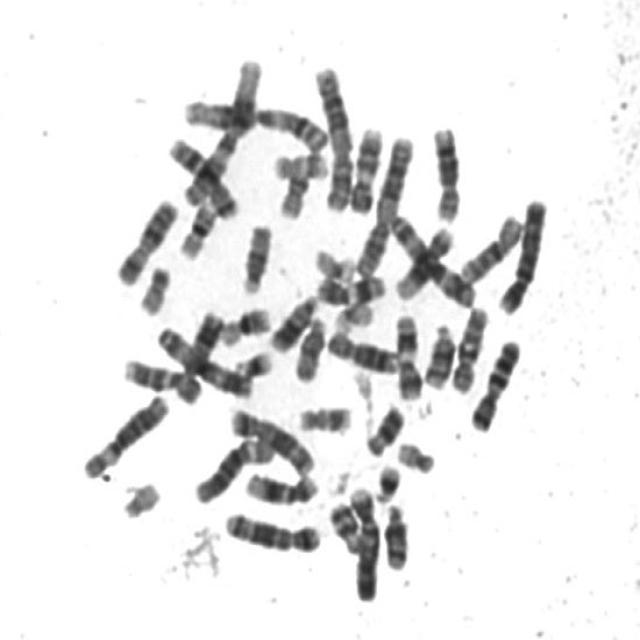A1: (176, 47, 265, 209), (177, 88, 333, 154)
A2: (349, 126, 417, 277), (306, 56, 355, 213)
A3: (382, 205, 478, 308), (150, 317, 255, 399)
B4: (490, 187, 550, 316), (342, 477, 382, 602)
B5: (221, 399, 317, 477), (216, 502, 322, 554)
C10: (453, 205, 526, 285), (445, 296, 491, 395)
C11: (388, 306, 423, 400), (310, 265, 388, 307)
C12: (389, 217, 457, 301), (238, 463, 322, 506)
C6: (76, 384, 171, 481), (187, 428, 277, 505)
C7: (162, 127, 242, 221), (463, 329, 524, 434)
C8: (319, 321, 401, 375), (425, 115, 463, 224)
C9: (116, 348, 204, 406), (342, 117, 385, 216)
D13: (173, 303, 224, 382), (263, 285, 321, 354)
D14: (417, 314, 456, 390), (377, 494, 412, 572)
D15: (234, 214, 275, 296), (288, 308, 330, 384)
E16: (171, 193, 219, 261), (213, 297, 273, 348)
E17: (266, 143, 331, 181), (291, 396, 354, 435)
E18: (358, 395, 408, 458), (322, 493, 364, 554)
F19: (306, 238, 357, 284), (327, 296, 374, 341)
F20: (132, 256, 174, 317), (277, 172, 315, 220)
G21: (229, 342, 276, 381), (368, 454, 403, 505)
G22: (115, 471, 163, 521), (390, 432, 437, 476)
X: (110, 189, 180, 288)
